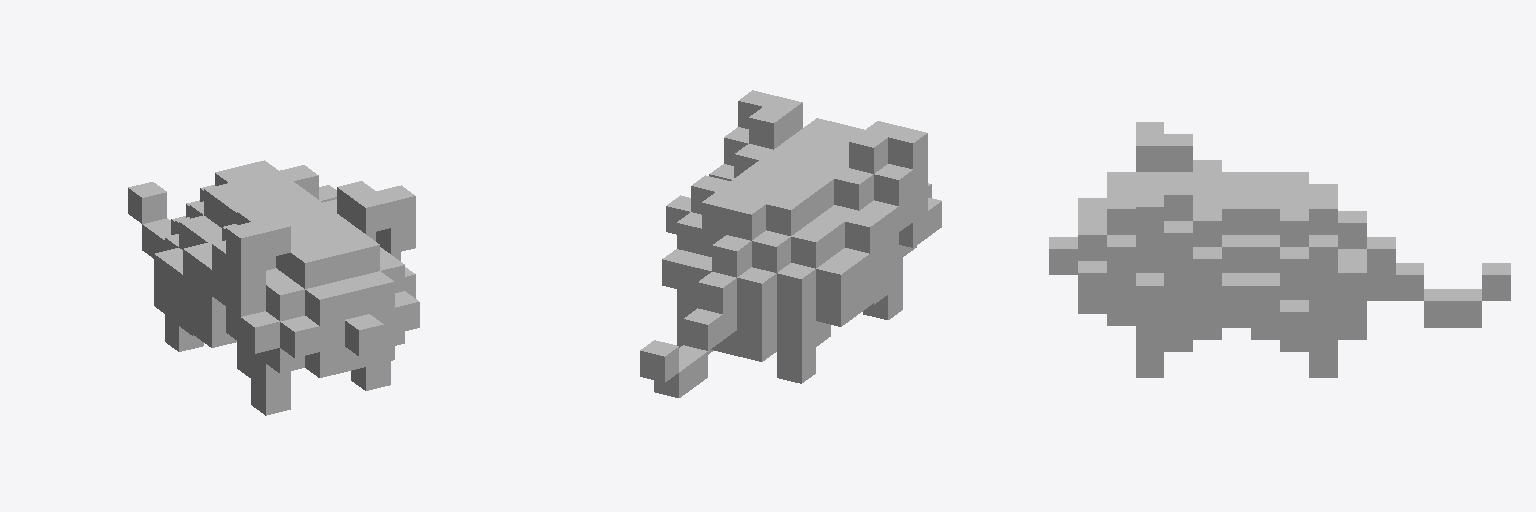
The model's file is mouse.obj.
3 views of the same model, side by side, from view 1: azimuth 30°, elevation 25°; view 2: azimuth 150°, elevation 25°; view 3: azimuth 270°, elevation 25° (orthographic).
Visible parts, largest first — view 1: object 1; view 2: object 1; view 3: object 1.
Boxes of the visible parts, x1=… form: object 1: x1=128, y1=160, x2=419, y2=415; object 1: x1=640, y1=90, x2=941, y2=397; object 1: x1=1049, y1=122, x2=1510, y2=377.
Bounding box in the file's own units: 0.7 × 0.7 × 1.6.